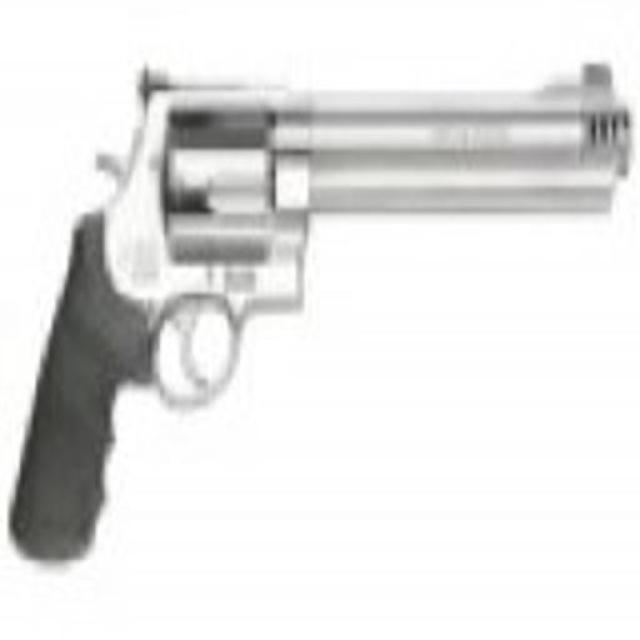pistol: (7, 64, 627, 570)
